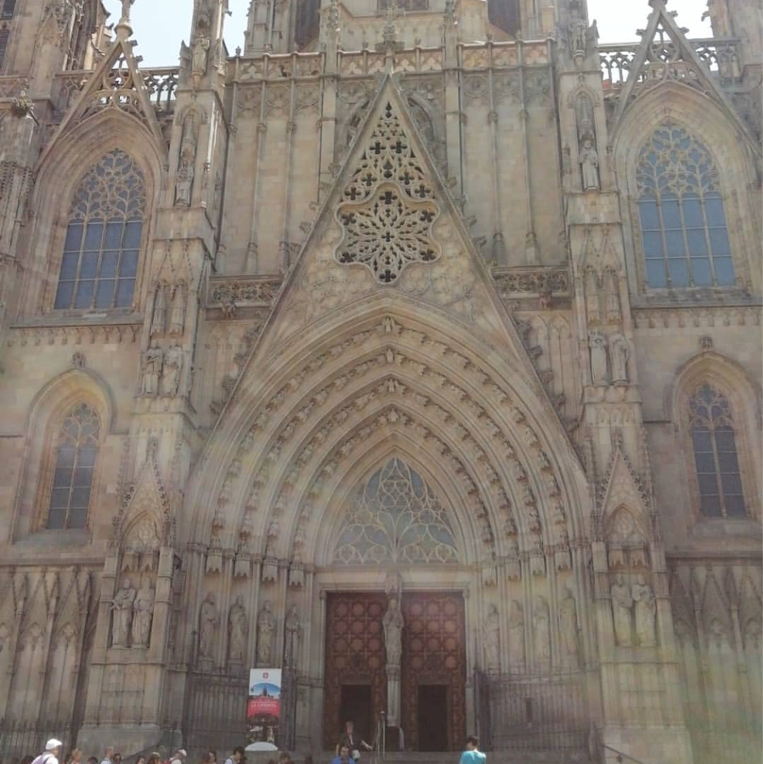arco-apuntado: (198, 281, 569, 539), (605, 72, 748, 184), (43, 99, 161, 206), (665, 345, 754, 417), (21, 365, 117, 431)
